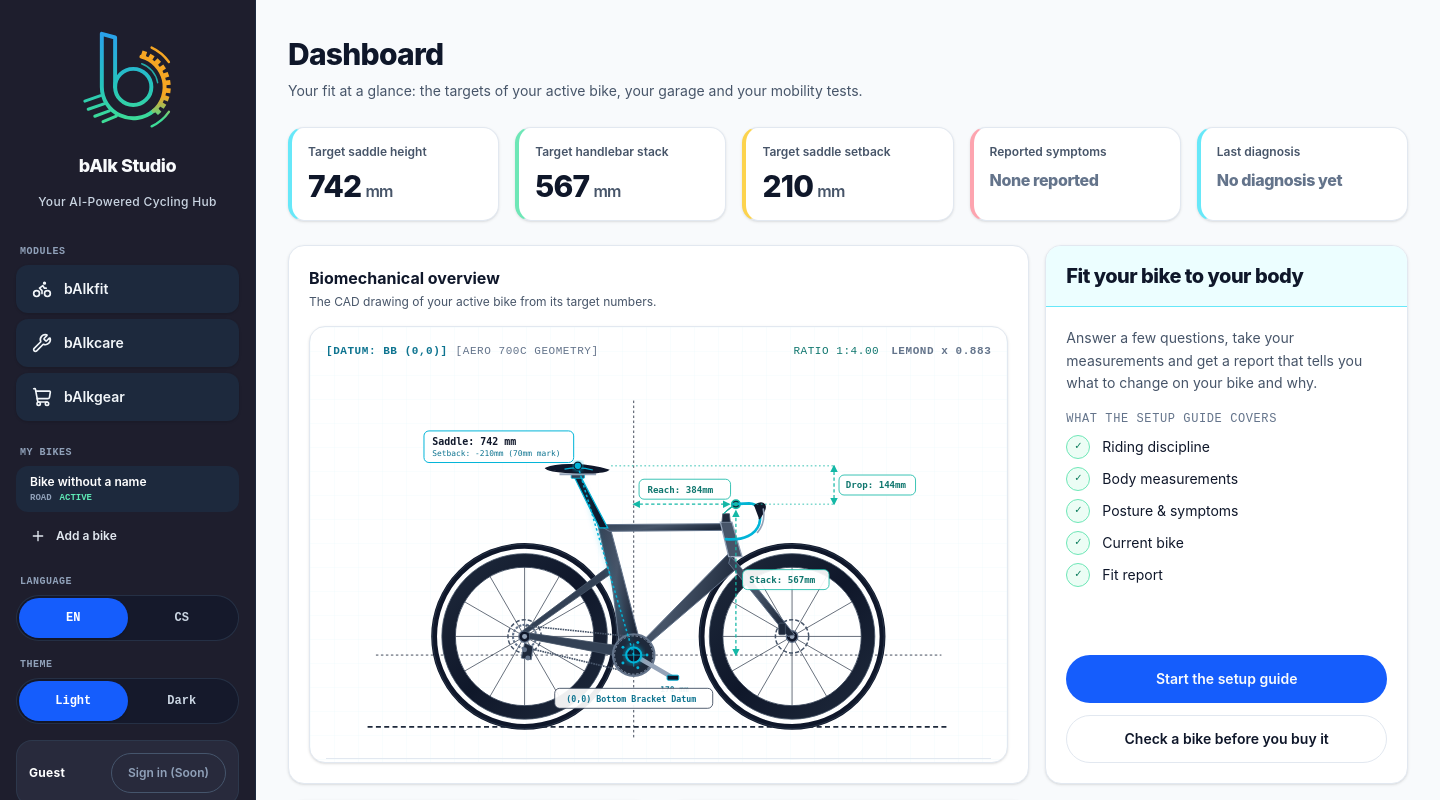
fit journey stepper (en) › should remember the unlock after a reload
This screenshot has width=1440, height=800.
Click the button "Start the setup guide": (1227, 679) left=1066, top=655, right=1387, bottom=703
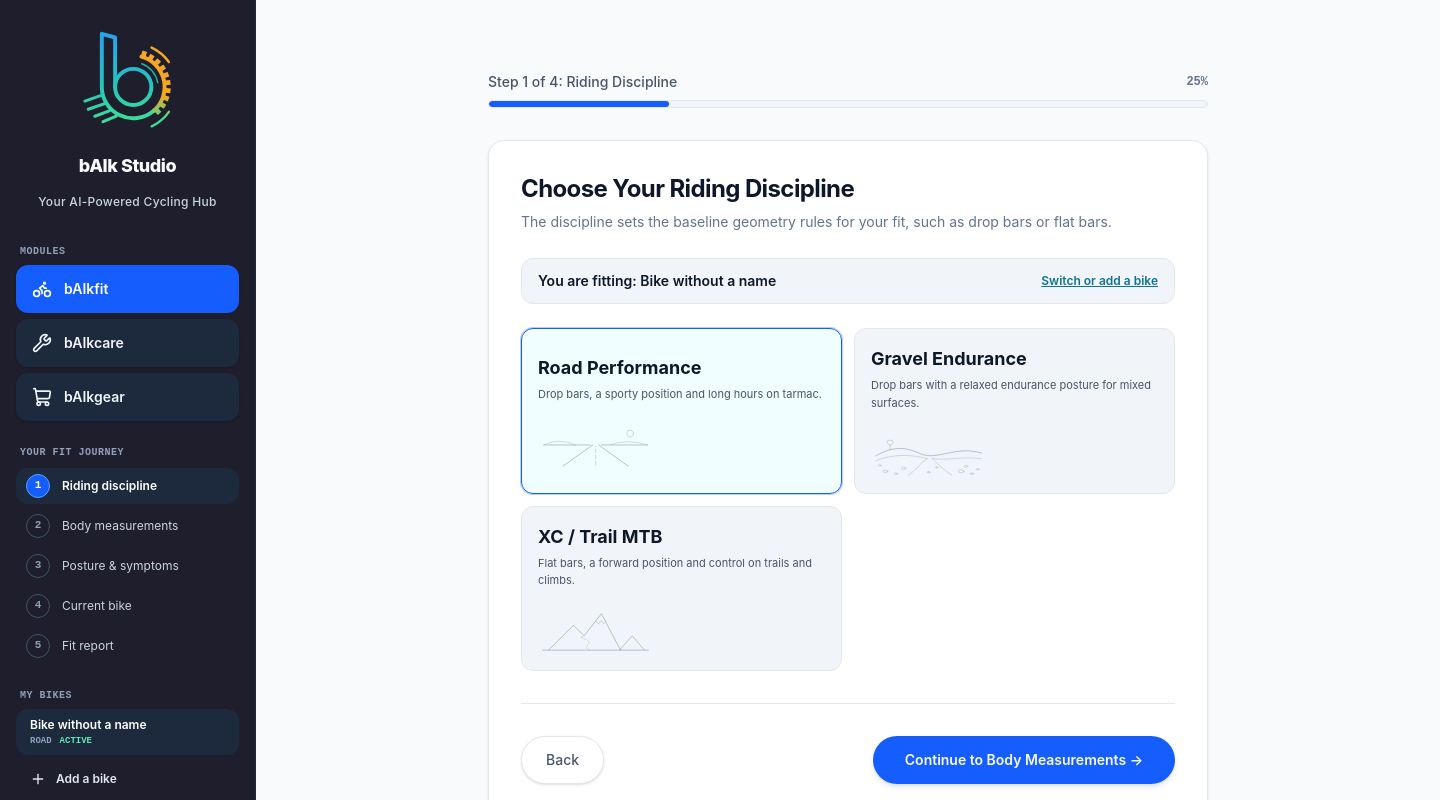
Expected: the button "5 Fit report" is enabled, left=16, top=628, right=239, bottom=664
